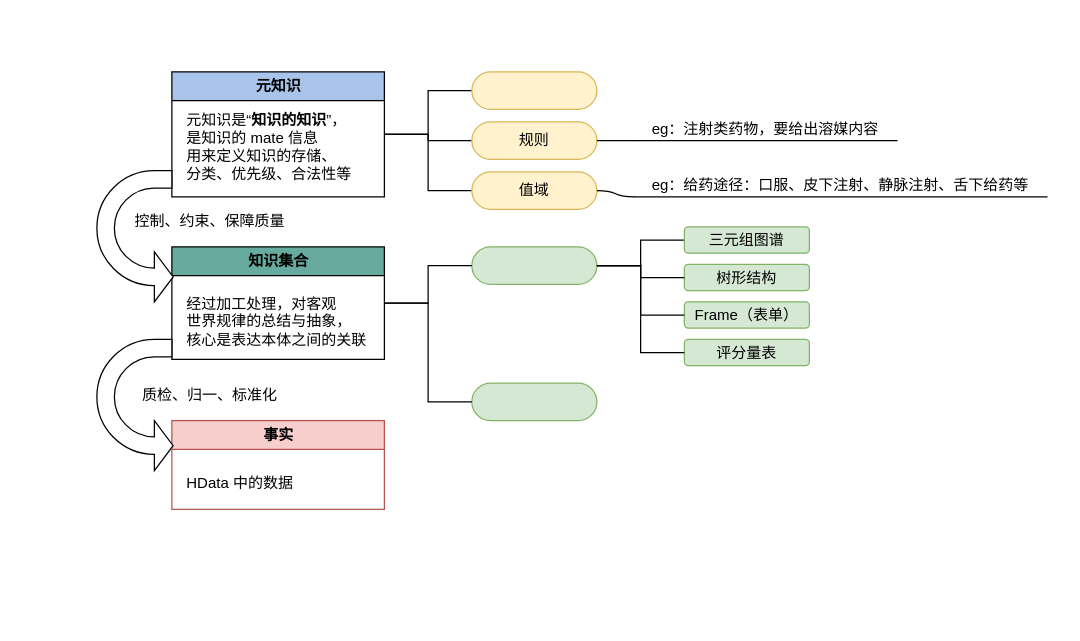
Some shapes in this 1080 by 641 pixel diagram are drawn without their labels. Here are the shapes that lost their labels. From the top down, the centre of each, then its label:
(x=534, y=90): schema
(x=534, y=265): 关联的多样
(x=534, y=401): 需求的多样
